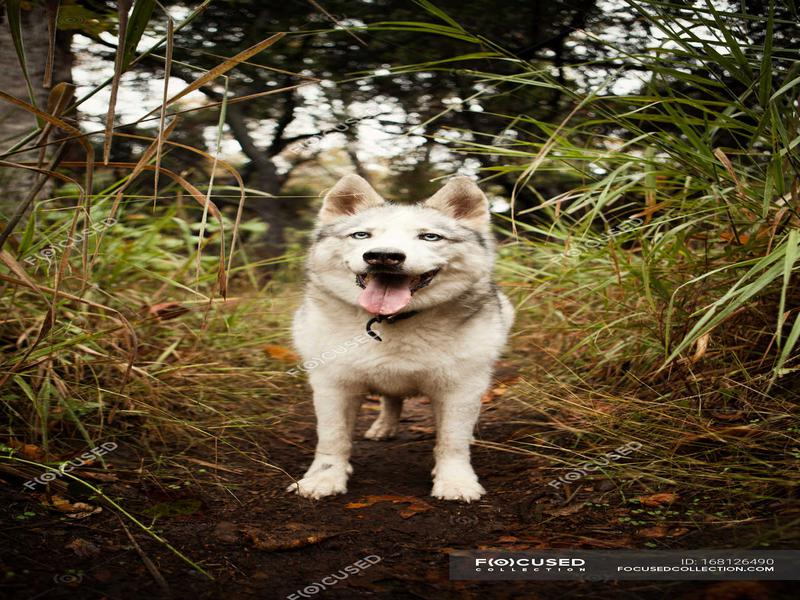dog_stand: (285, 172, 519, 501)
